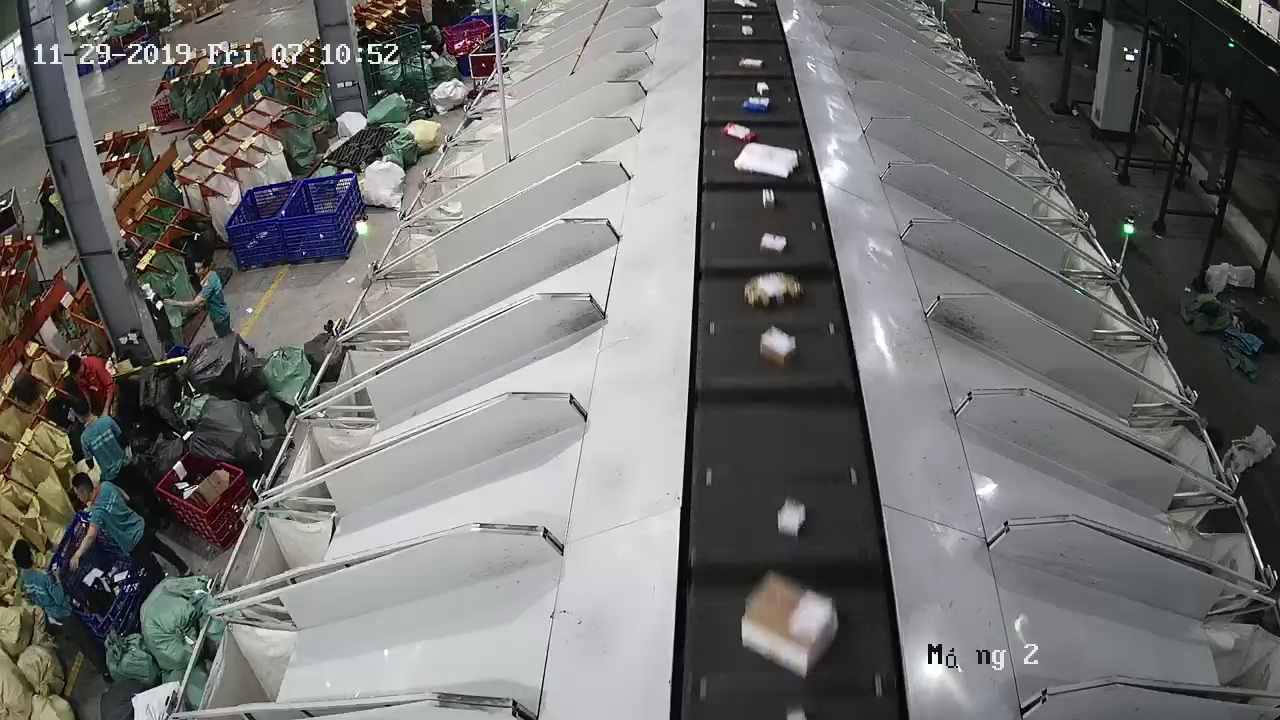parcel: (742, 574, 838, 680), (743, 272, 806, 311), (734, 142, 799, 179), (759, 325, 797, 369), (776, 498, 806, 540), (760, 232, 787, 256), (762, 188, 775, 209)
